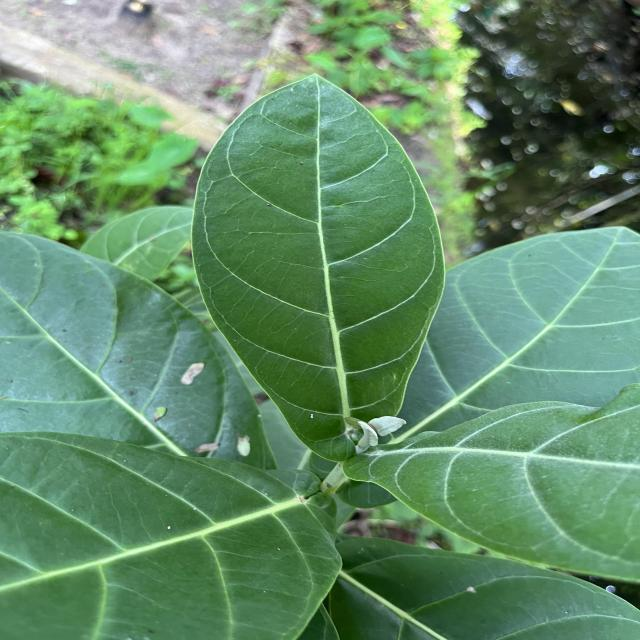Calotropis gigantea: (192, 71, 449, 468), (404, 221, 640, 441)
